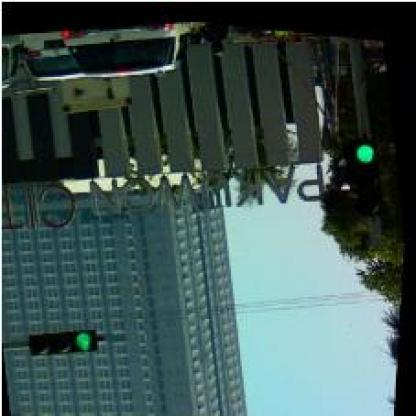green: (348, 126, 389, 208), (30, 323, 102, 359)
